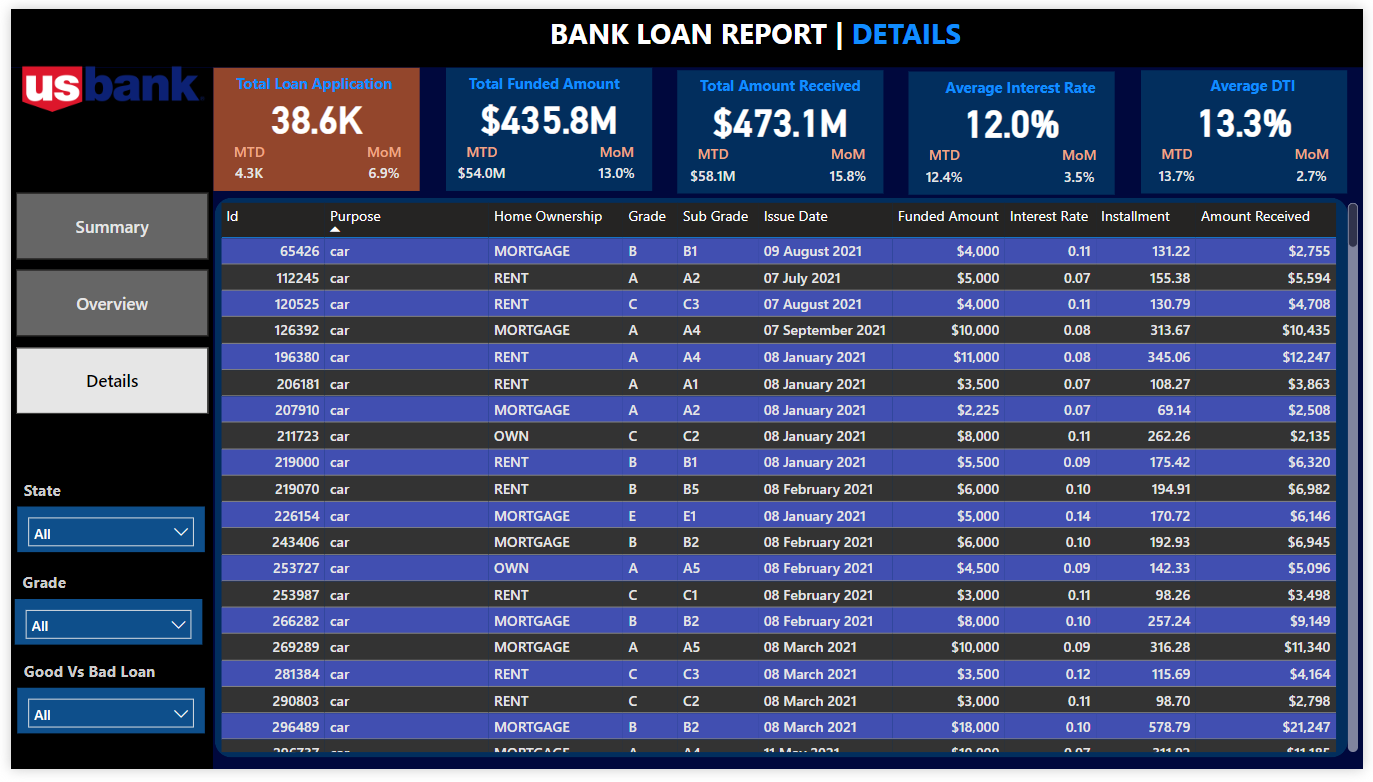

This screenshot's page, from the dashboard's own definition file:
{"tool":"powerbi","page":{"name":"Details","canvas":[1280,720],"ordinal":2},"visuals":[{"type":"shape","box":[411.6,55.1,195.6,116.7],"z":0,"group":"g1"},{"type":"shape","box":[192.2,55.6,195.6,116.7],"z":0,"group":"g3"},{"type":"shape","box":[0,55.7,191.4,664.3],"z":0},{"type":"shape","box":[630.4,57.8,195.6,116.7],"z":0,"group":"g2"},{"type":"shape","box":[1069.4,57.8,195.6,116.7],"z":0,"group":"g8"},{"type":"shape","box":[849.2,59.2,195.6,116.7],"z":0,"group":"g7"},{"type":"card","fields":{"Values":["bank_loan_data.Total Funded Amount"]},"box":[411.6,70.7,195.6,63.3],"z":1000,"group":"g1"},{"type":"card","fields":{"Values":["bank_loan_data.Total Loan Applications"]},"box":[192.2,71.2,195.6,63.3],"z":1000,"group":"g3"},{"type":"card","fields":{"Values":["bank_loan_data.Total Amount Received"]},"box":[630.4,73.4,195.6,63.3],"z":1000,"group":"g2"},{"type":"card","fields":{"Values":["bank_loan_data.Average DTI"]},"box":[1069.4,73.4,195.6,63.3],"z":1000,"group":"g8"},{"type":"card","fields":{"Values":["bank_loan_data.Avg Interest Rate"]},"box":[849.2,74.8,195.6,63.3],"z":1000,"group":"g7"},{"type":"textbox","box":[6.7,439.9,178.9,30.9],"z":1000},{"type":"textbox","box":[428.3,55.1,178.9,31.1],"z":2000,"group":"g1"},{"type":"textbox","box":[208.9,55.6,178.9,31.1],"z":2000,"group":"g3"},{"type":"textbox","box":[647.1,57.8,178.9,31.1],"z":2000,"group":"g2"},{"type":"textbox","box":[1086.1,57.8,178.9,31.1],"z":2000,"group":"g8"},{"type":"textbox","box":[865.9,59.2,178.9,31.1],"z":2000,"group":"g7"},{"type":"shape","box":[192.9,178.6,1072.9,530],"z":2000},{"type":"shape","box":[0,0,1280.5,55.1],"z":3000},{"type":"card","title":"MTD","fields":{"Values":["bank_loan_data.MTD Funded Amount"]},"box":[411.6,125.1,67.8,46.7],"z":3000,"group":"g1"},{"type":"card","title":"MTD","fields":{"Values":["bank_loan_data.MTD Loan Applications"]},"box":[192.2,125.6,67.8,46.7],"z":3000,"group":"g3"},{"type":"card","title":"MTD","fields":{"Values":["bank_loan_data.MTD Amount Received"]},"box":[630.4,127.8,67.8,46.7],"z":3000,"group":"g2"},{"type":"card","title":"MTD","fields":{"Values":["bank_loan_data.MTD Avg DTI"]},"box":[1069.4,127.8,67.8,46.7],"z":3000,"group":"g8"},{"type":"card","title":"MTD","fields":{"Values":["bank_loan_data.MTD Avg Interest Rate"]},"box":[849.2,129.2,67.8,46.7],"z":3000,"group":"g7"},{"type":"textbox","box":[505.8,0,452,49.8],"z":4000},{"type":"card","title":"MoM","fields":{"Values":["bank_loan_data.MoM Funded Amount"]},"box":[539.4,125.1,67.8,46.7],"z":4000,"group":"g1"},{"type":"card","title":"MoM","fields":{"Values":["bank_loan_data.MoM Loan Application"]},"box":[320,125.6,67.8,46.7],"z":4000,"group":"g3"},{"type":"card","title":"MoM","fields":{"Values":["bank_loan_data.MoM Amount Received"]},"box":[758.2,127.8,67.8,46.7],"z":4000,"group":"g2"},{"type":"card","title":"MoM","fields":{"Values":["bank_loan_data.MoM Average DTI"]},"box":[1197.2,127.8,67.8,46.7],"z":4000,"group":"g8"},{"type":"card","title":"MoM","fields":{"Values":["bank_loan_data.MoM Avg Interest Rate"]},"box":[977,129.2,67.8,46.7],"z":4000,"group":"g7"},{"type":"group","id":"g1","title":"Group 3","box":[411.6,55.1,195,117],"z":4001,"group":"g5"},{"type":"group","id":"g2","title":"Group 4","box":[630.4,57.8,195.6,116.7],"z":4002,"group":"g6"},{"type":"group","id":"g3","title":"Group 2","box":[192.2,55.6,195.6,116.7],"z":4005,"group":"g4"},{"type":"group","id":"g4","title":"Group 1","box":[192.2,55.6,195.6,116.7],"z":5000},{"type":"group","id":"g5","title":"Group 2","box":[411.6,55.1,195,117],"z":6000},{"type":"group","id":"g6","title":"Group 3","box":[630.4,57.8,195,117],"z":7000},{"type":"group","id":"g7","title":"Group 4","box":[849.2,59.2,196.4,117],"z":8000},{"type":"group","id":"g8","title":"Group 4","box":[1069.4,57.8,196.4,117],"z":9000},{"type":"slicer","fields":{"Values":["bank_loan_data.address_state"]},"box":[5.4,470.8,177.6,43],"z":10000},{"type":"slicer","fields":{"Values":["bank_loan_data.grade"]},"box":[4,558.2,177.6,43],"z":11000},{"type":"textbox","box":[5.4,527.3,178.9,30.9],"z":12000},{"type":"slicer","fields":{"Values":["bank_loan_data.Good Vs Bad Loan"]},"box":[5.4,643,177.6,43],"z":13000},{"type":"textbox","box":[6.7,612,178.9,30.9],"z":14000},{"type":"tableEx","fields":{"Values":["bank_loan_data.id","bank_loan_data.purpose","bank_loan_data.home_ownership","bank_loan_data.grade","bank_loan_data.sub_grade","bank_loan_data.issue_date","bank_loan_data.Total Funded Amount","Sum(bank_loan_data.int_rate)","Sum(bank_loan_data.installment)","bank_loan_data.Total Amount Received"]},"box":[192.9,178.6,1087.1,530],"z":17001},{"type":"pageNavigator","box":[4.3,174.3,182.9,210],"z":17002},{"type":"image","box":[1.4,1.4,191.4,147.1],"z":17003}]}

Visuals, with their boxes in screenshot pixels (x1, y1, x2, y2), scaled from the page's 1280x720 canvas onto the 1373x782 screenshot:
shape: locate(442, 60, 651, 187)
shape: locate(206, 60, 416, 187)
shape: locate(0, 60, 205, 781)
shape: locate(676, 63, 886, 190)
shape: locate(1147, 63, 1357, 190)
shape: locate(911, 64, 1121, 191)
card - bank_loan_data.Total Funded Amount: locate(442, 77, 651, 146)
card - bank_loan_data.Total Loan Applications: locate(206, 77, 416, 146)
card - bank_loan_data.Total Amount Received: locate(676, 80, 886, 148)
card - bank_loan_data.Average DTI: locate(1147, 80, 1357, 148)
card - bank_loan_data.Avg Interest Rate: locate(911, 81, 1121, 150)
textbox: locate(7, 478, 199, 511)
textbox: locate(459, 60, 651, 94)
textbox: locate(224, 60, 416, 94)
textbox: locate(694, 63, 886, 97)
textbox: locate(1165, 63, 1357, 97)
textbox: locate(929, 64, 1121, 98)
shape: locate(207, 194, 1358, 770)
shape: locate(0, 0, 1372, 60)
"MTD" card: locate(442, 136, 514, 187)
"MTD" card: locate(206, 136, 279, 187)
"MTD" card: locate(676, 139, 749, 190)
"MTD" card: locate(1147, 139, 1220, 190)
"MTD" card: locate(911, 140, 984, 191)
textbox: locate(543, 0, 1027, 54)
"MoM" card: locate(579, 136, 651, 187)
"MoM" card: locate(343, 136, 416, 187)
"MoM" card: locate(813, 139, 886, 190)
"MoM" card: locate(1284, 139, 1357, 190)
"MoM" card: locate(1048, 140, 1121, 191)
"Group 3" group: locate(442, 60, 651, 187)
"Group 4" group: locate(676, 63, 886, 190)
"Group 2" group: locate(206, 60, 416, 187)
"Group 1" group: locate(206, 60, 416, 187)
"Group 2" group: locate(442, 60, 651, 187)
"Group 3" group: locate(676, 63, 885, 190)
"Group 4" group: locate(911, 64, 1122, 191)
"Group 4" group: locate(1147, 63, 1358, 190)
slicer - bank_loan_data.address_state: locate(6, 511, 196, 558)
slicer - bank_loan_data.grade: locate(4, 606, 195, 653)
textbox: locate(6, 573, 198, 606)
slicer - bank_loan_data.Good Vs Bad Loan: locate(6, 698, 196, 745)
textbox: locate(7, 665, 199, 698)
tableEx - bank_loan_data.id x bank_loan_data.purpose: locate(207, 194, 1372, 770)
pageNavigator: locate(5, 189, 201, 417)
image: locate(2, 2, 207, 161)
